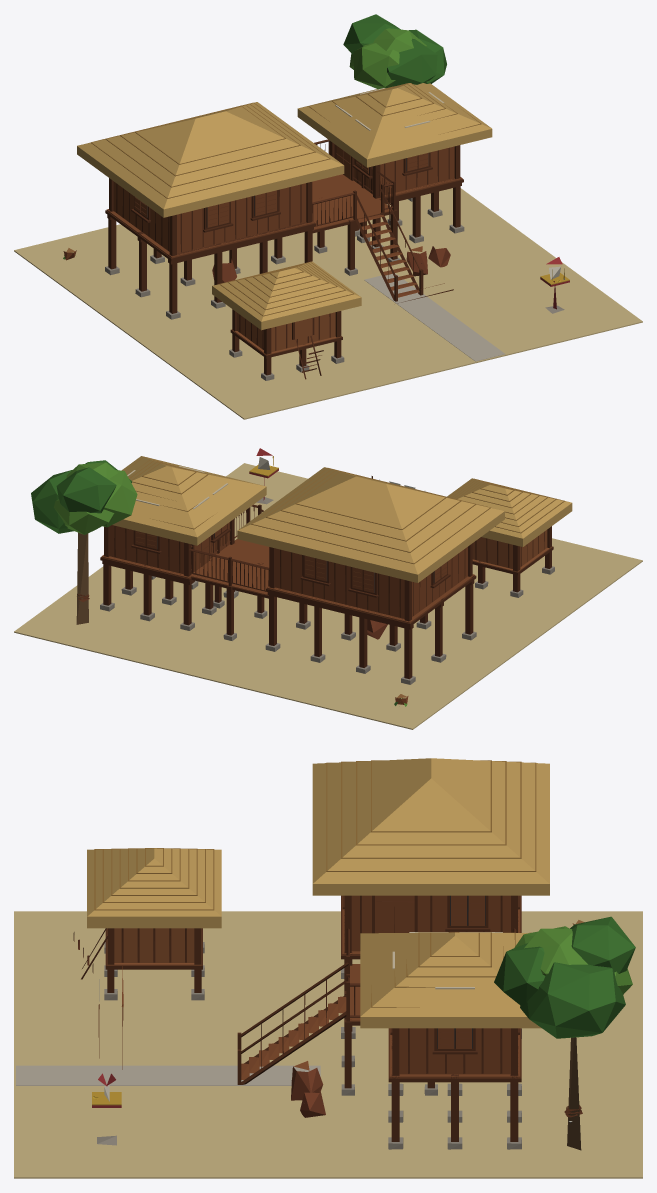
File: home_3.glb
The picture shows the model from 3 angles, top to bottom: view 1: azimuth 30°, elevation 25°; view 2: azimuth 150°, elevation 25°; view 3: azimuth 270°, elevation 25°; orthographic projection. The views are drawn at different scales.
Parts seen in each view (by area): view 1: body; view 2: body; view 3: body.
Boxes of the visible parts, x1,y1,x2,y2 form: body: [14, 14, 642, 419]; body: [14, 448, 642, 729]; body: [14, 758, 642, 1178].
Bounding box in the file's own units: 16.01 × 6.51 × 15.9.
